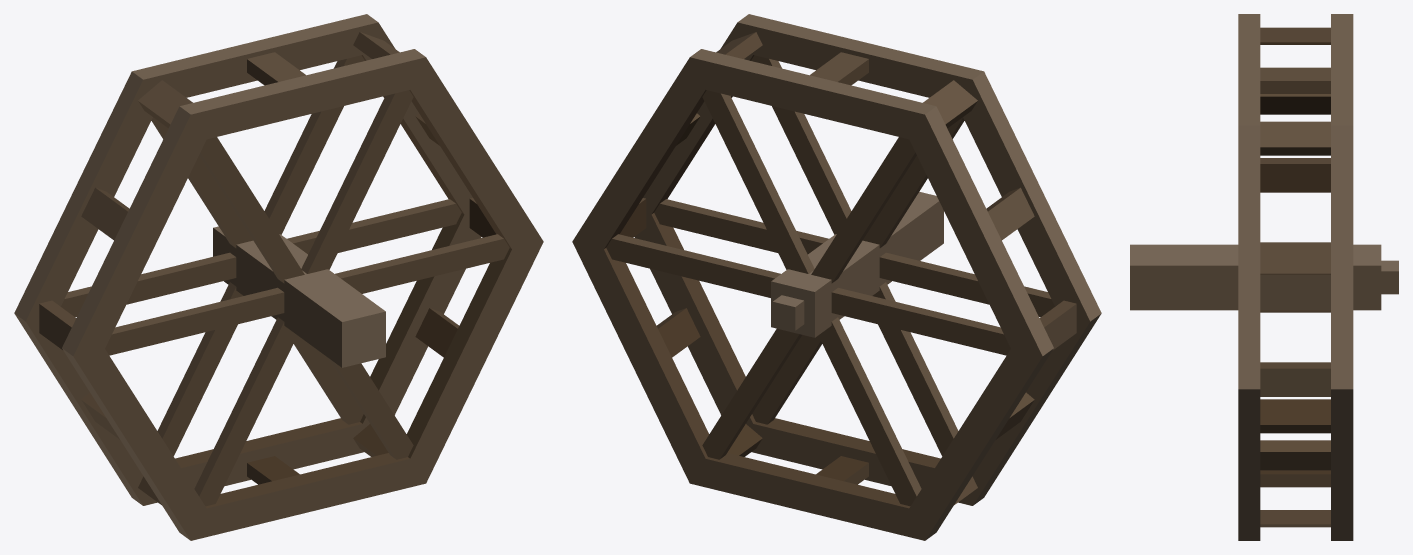
File: HouseAdd_WaterWheel.gltf
3 renders of one model, left to right at view 1: azimuth 30°, elevation 25°; view 2: azimuth 150°, elevation 25°; view 3: azimuth 270°, elevation 25°, orthographic. The views are drawn at different scales.
Visible parts, largest first — view 1: SF_Bld_HouseAdd_WaterWheel_01; view 2: SF_Bld_HouseAdd_WaterWheel_01; view 3: SF_Bld_HouseAdd_WaterWheel_01.
Part boxes in pixels (box(x1,y1,x2,y2)): SF_Bld_HouseAdd_WaterWheel_01: box(14, 14, 543, 540); SF_Bld_HouseAdd_WaterWheel_01: box(572, 14, 1101, 540); SF_Bld_HouseAdd_WaterWheel_01: box(1130, 14, 1398, 540).
Size of the model in its own units: 0.0905 by 0.0783 by 0.046.
1 material, 1 textured.
